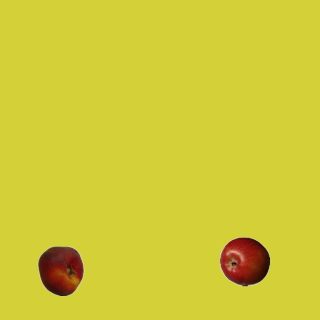Apple Braeburn: (219, 236, 269, 286)
Nectarine Flat: (35, 245, 85, 295)
